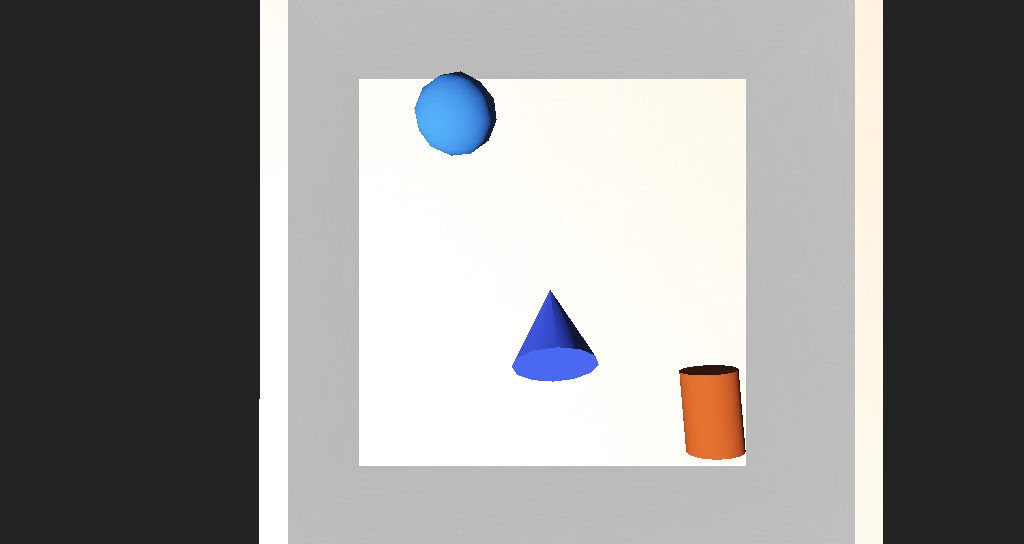cone: (603, 322, 664, 375)
cylinder: (475, 267, 536, 334)
sphere: (401, 157, 461, 205)
